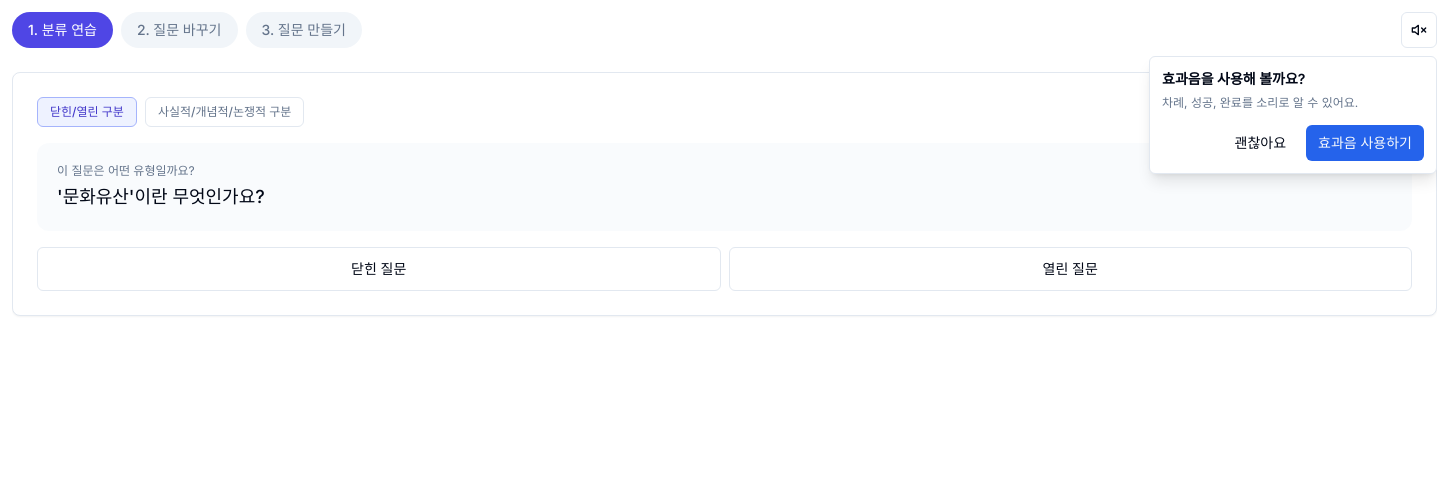
Test: 연습 질문 전달 › 직접 탭을 왕복하면 분류 답을 지우고 늦은 이전 지급 응답을 버린다
Click the button "닫힌 질문". click: (379, 269)
box: [37,247,720,291]
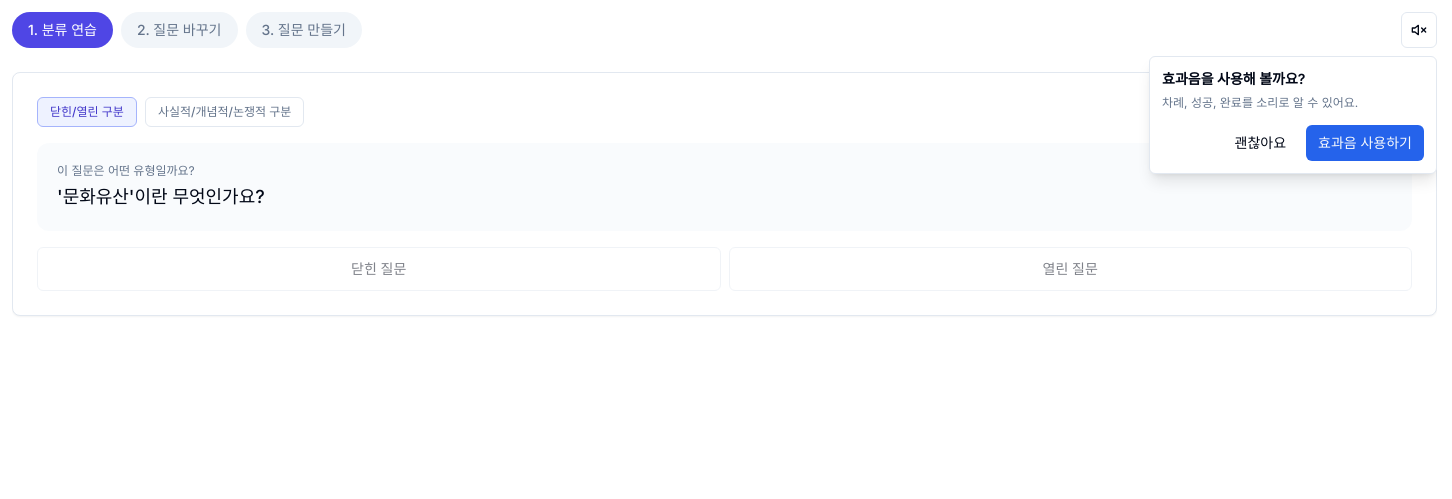
Check: the text "정답이에요" is not shown
Click the tab "2. 질문 바꾸기". click: (179, 30)
box: [121,12,238,48]
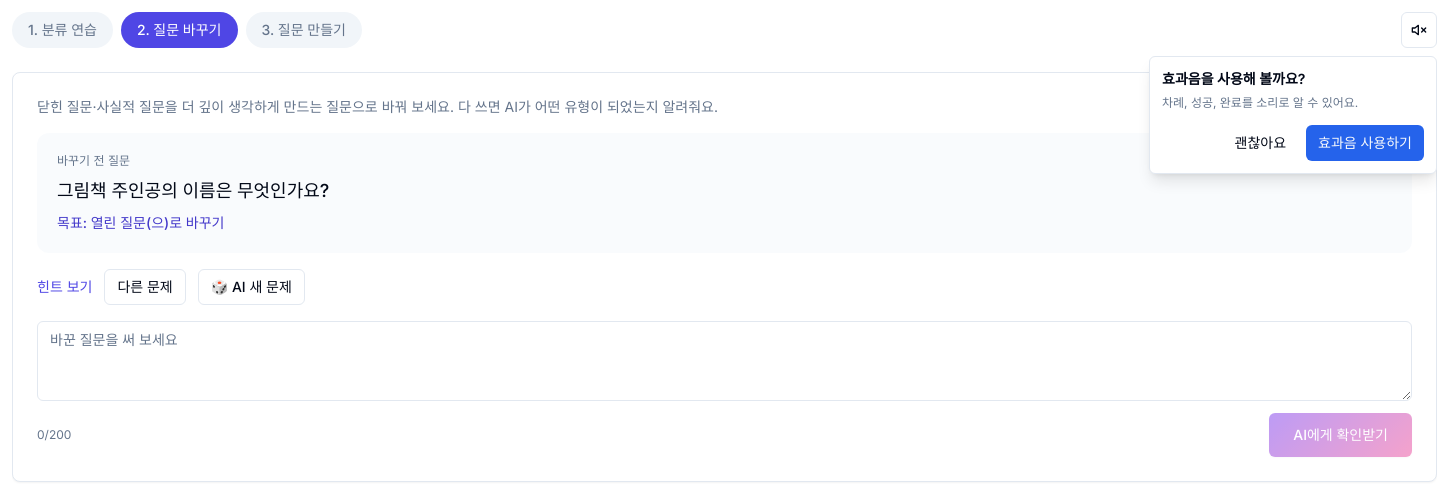
Click the tab "1. 분류 연습". click: (62, 30)
box: [12,12,113,48]
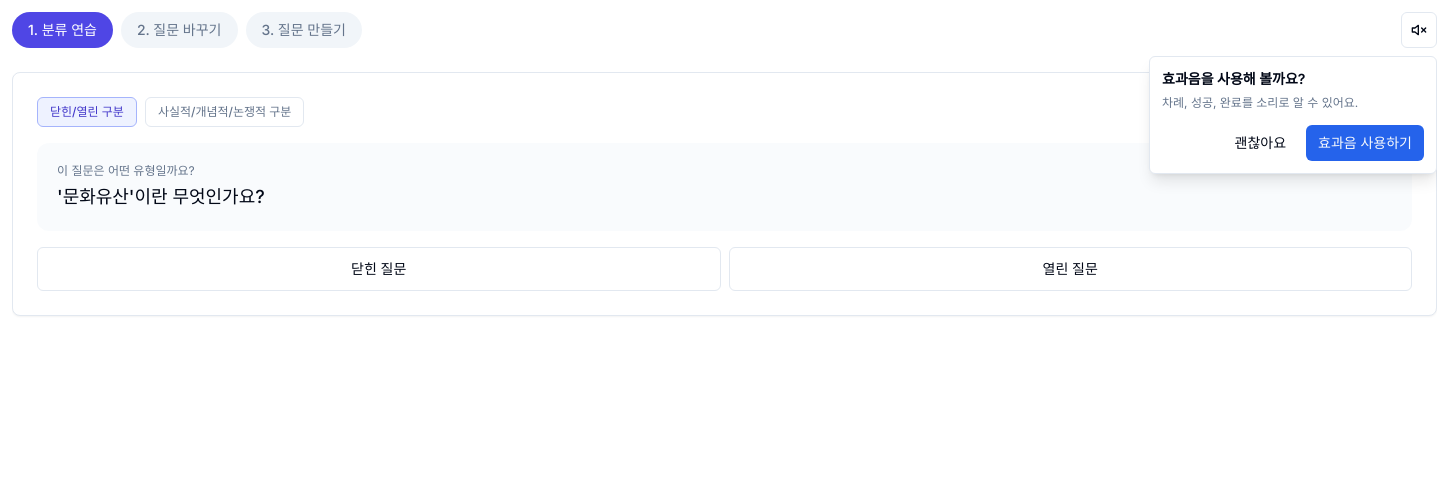
Check: the text "정답이에요" is not shown
Click the button "닫힌 질문". click: (379, 269)
box: [37,247,720,291]
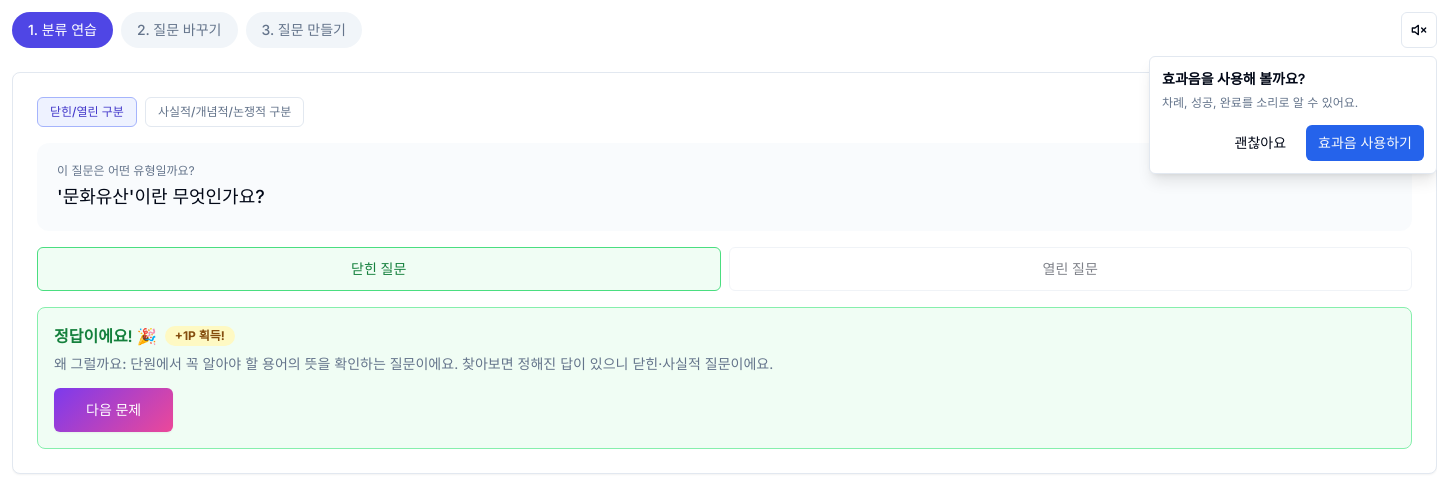
Check: the text "+1P 획득!" is shown, box [165,326,235,346]
